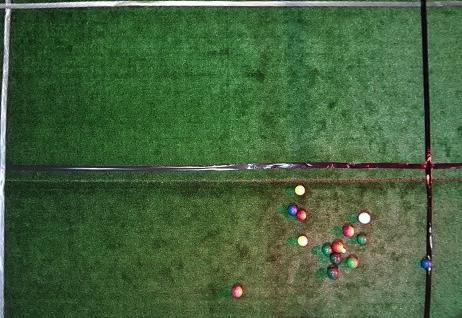blue: (287, 205, 298, 216), (421, 259, 431, 269)
green: (327, 267, 339, 279), (330, 254, 342, 265), (347, 257, 358, 269), (323, 245, 333, 256), (357, 235, 367, 245)
red: (231, 285, 243, 298), (358, 212, 371, 224), (332, 241, 343, 253), (343, 225, 354, 237), (297, 210, 306, 220)
vline: (420, 0, 461, 261), (0, 0, 14, 317), (424, 270, 461, 317)
white: (343, 248, 346, 253)
yellow: (298, 236, 308, 246), (295, 185, 305, 195)
